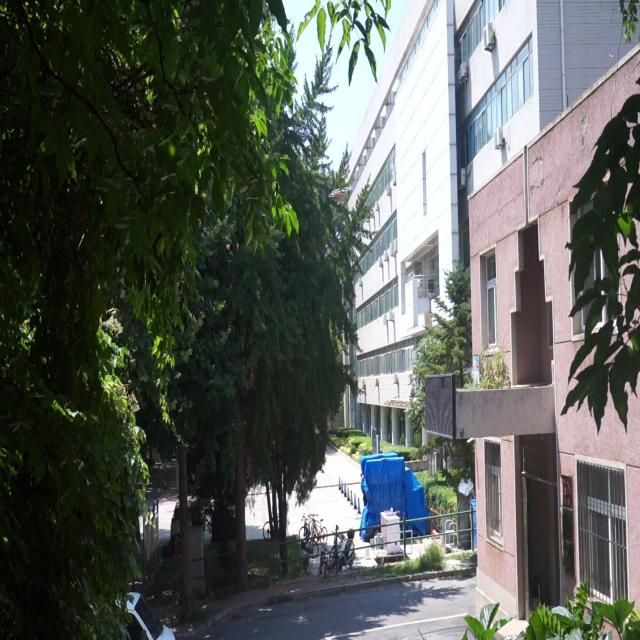UAV: (328, 187, 352, 199)
